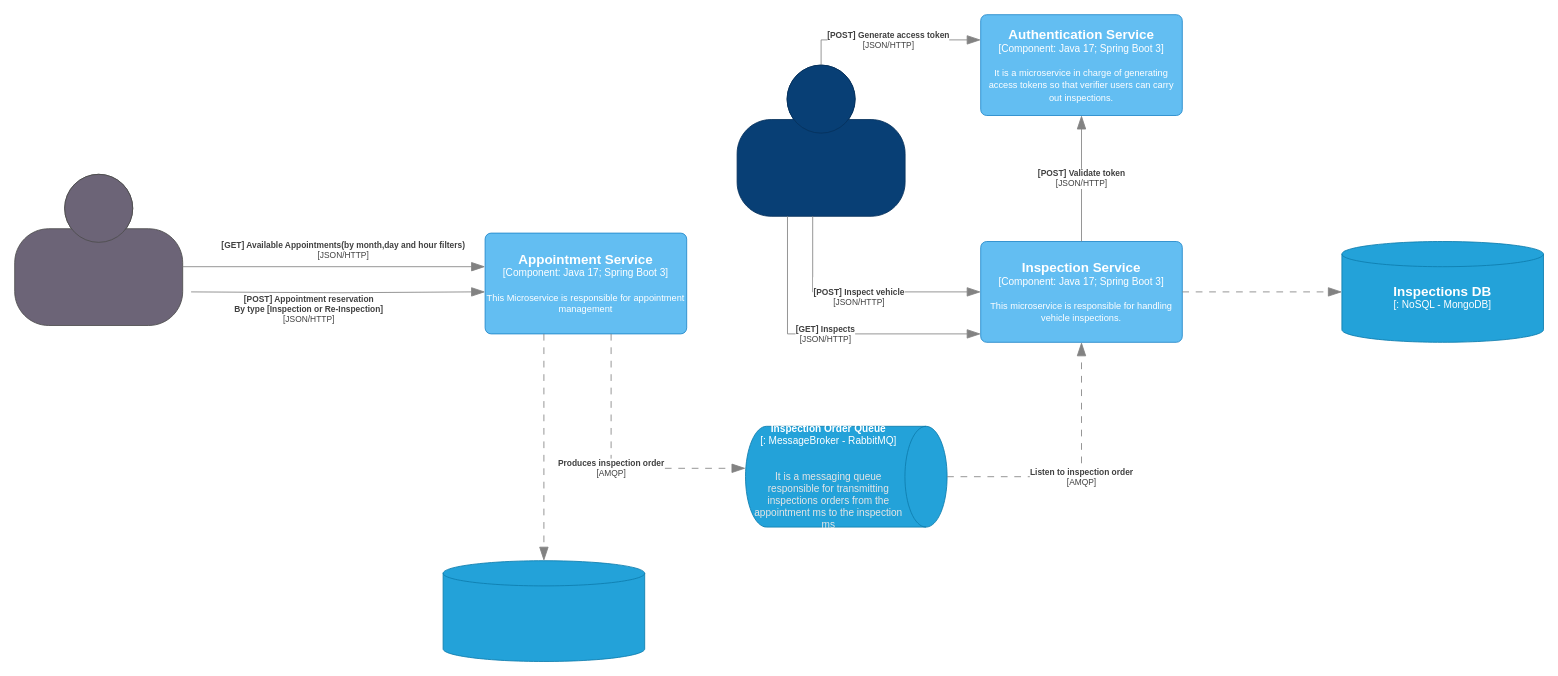
Image size: 1558x676. Some labels were removed from this diagram. Each missing label, with the centre of its shape:
"Appointments DB [: NoSQL - MongoDB]" belongs at pixel 543 611.
"Employee user [Person] Employee in charge of carrying out the inspection." belongs at pixel 820 140.
"User [Person] User who requires a vehicle verification of their vehicle" belongs at pixel 98 249.
